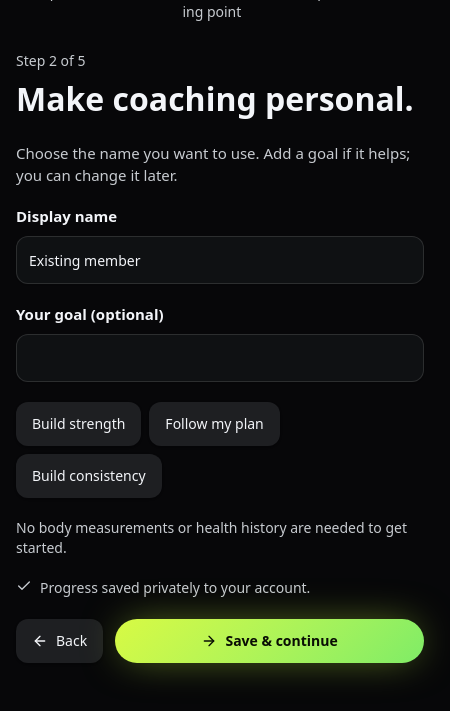
role onboarding › keeps existing imperial preferences when an older draft has no unit choice
(page scrolled)
Click the button "Save & continue" at (270, 641), box [115, 619, 424, 663]
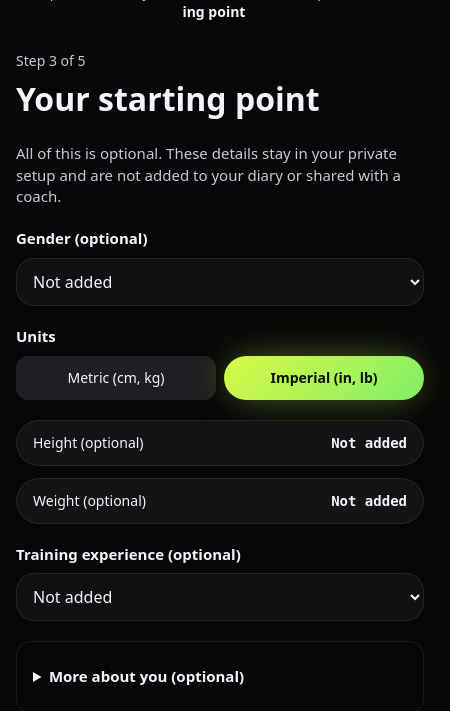
Now the heading "Your starting point" is shown, box [16, 77, 320, 120]
